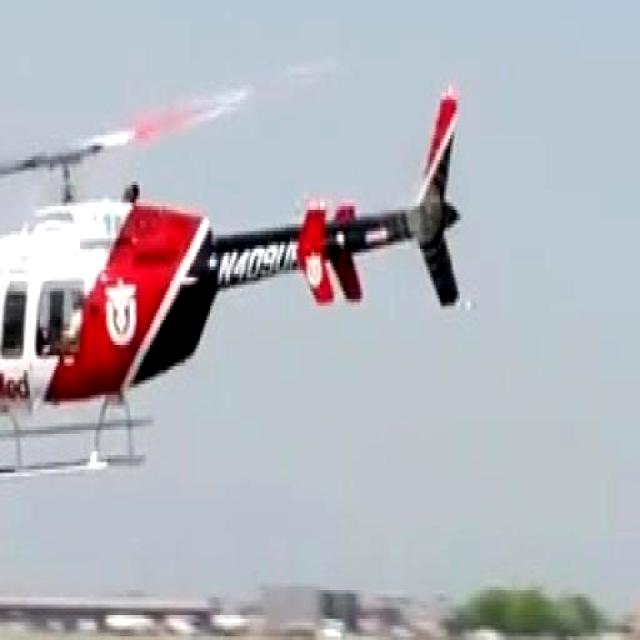drone: (0, 62, 470, 476)
